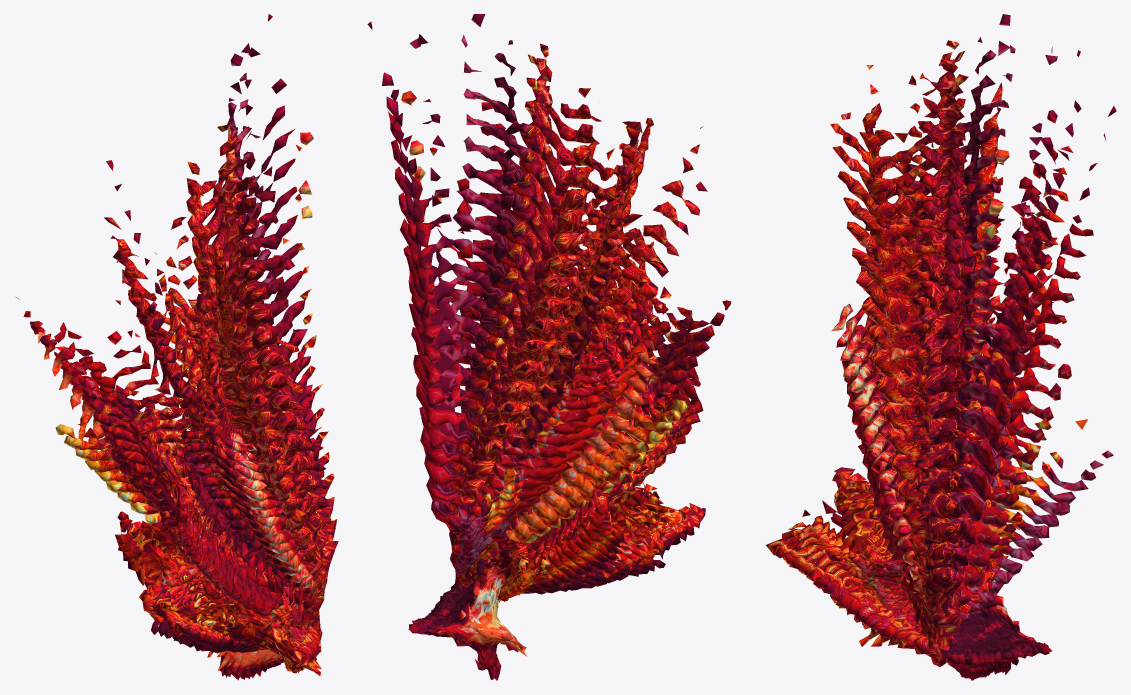
The model's file is Blood4.FBX.
The picture shows the model from 3 angles, left to right: view 1: azimuth 30°, elevation 25°; view 2: azimuth 150°, elevation 25°; view 3: azimuth 270°, elevation 25°; orthographic projection. The views are drawn at different scales.
Visible parts, largest first — view 1: LODGroup_1_MainMesh_19_SubMesh_1, LODGroup_1_MainMesh_18_SubMesh_1, LODGroup_1_MainMesh_20_SubMesh_1, LODGroup_1_MainMesh_17_SubMesh_1, LODGroup_1_MainMesh_16_SubMesh_1, LODGroup_1_MainMesh_21_SubMesh_1, LODGroup_1_MainMesh_15_SubMesh_1, LODGroup_1_MainMesh_14_SubMesh_1, LODGroup_1_MainMesh_13_SubMesh_1, LODGroup_1_MainMesh_12_SubMesh_1, LODGroup_1_MainMesh_11_SubMesh_1, LODGroup_1_MainMesh_10_SubMesh_1 (+10 smaller); view 2: LODGroup_1_MainMesh_18_SubMesh_1, LODGroup_1_MainMesh_17_SubMesh_1, LODGroup_1_MainMesh_19_SubMesh_1, LODGroup_1_MainMesh_16_SubMesh_1, LODGroup_1_MainMesh_15_SubMesh_1, LODGroup_1_MainMesh_14_SubMesh_1, LODGroup_1_MainMesh_20_SubMesh_1, LODGroup_1_MainMesh_13_SubMesh_1, LODGroup_1_MainMesh_12_SubMesh_1, LODGroup_1_MainMesh_11_SubMesh_1, LODGroup_1_MainMesh_10_SubMesh_1, LODGroup_1_MainMesh_9_SubMesh_1 (+10 smaller); view 3: LODGroup_1_MainMesh_16_SubMesh_1, LODGroup_1_MainMesh_15_SubMesh_1, LODGroup_1_MainMesh_18_SubMesh_1, LODGroup_1_MainMesh_14_SubMesh_1, LODGroup_1_MainMesh_13_SubMesh_1, LODGroup_1_MainMesh_17_SubMesh_1, LODGroup_1_MainMesh_12_SubMesh_1, LODGroup_1_MainMesh_11_SubMesh_1, LODGroup_1_MainMesh_10_SubMesh_1, LODGroup_1_MainMesh_19_SubMesh_1, LODGroup_1_MainMesh_9_SubMesh_1, LODGroup_1_MainMesh_8_SubMesh_1 (+10 smaller).
Part boxes in pixels (x1=…): LODGroup_1_MainMesh_19_SubMesh_1: x1=34, y1=99, x2=303, y2=676; LODGroup_1_MainMesh_18_SubMesh_1: x1=45, y1=78, x2=313, y2=677; LODGroup_1_MainMesh_20_SubMesh_1: x1=23, y1=47, x2=302, y2=671; LODGroup_1_MainMesh_17_SubMesh_1: x1=61, y1=105, x2=299, y2=676; LODGroup_1_MainMesh_16_SubMesh_1: x1=70, y1=129, x2=312, y2=673; LODGroup_1_MainMesh_21_SubMesh_1: x1=15, y1=14, x2=304, y2=661; LODGroup_1_MainMesh_15_SubMesh_1: x1=81, y1=158, x2=312, y2=678; LODGroup_1_MainMesh_14_SubMesh_1: x1=96, y1=186, x2=305, y2=680; LODGroup_1_MainMesh_13_SubMesh_1: x1=130, y1=215, x2=309, y2=679; LODGroup_1_MainMesh_12_SubMesh_1: x1=144, y1=243, x2=312, y2=678; LODGroup_1_MainMesh_11_SubMesh_1: x1=165, y1=271, x2=313, y2=677; LODGroup_1_MainMesh_10_SubMesh_1: x1=178, y1=300, x2=316, y2=676; LODGroup_1_MainMesh_18_SubMesh_1: x1=382, y1=72, x2=709, y2=677; LODGroup_1_MainMesh_17_SubMesh_1: x1=386, y1=96, x2=697, y2=671; LODGroup_1_MainMesh_19_SubMesh_1: x1=395, y1=61, x2=714, y2=680; LODGroup_1_MainMesh_16_SubMesh_1: x1=388, y1=111, x2=689, y2=671; LODGroup_1_MainMesh_15_SubMesh_1: x1=391, y1=139, x2=679, y2=662; LODGroup_1_MainMesh_14_SubMesh_1: x1=395, y1=166, x2=666, y2=664; LODGroup_1_MainMesh_20_SubMesh_1: x1=390, y1=35, x2=724, y2=679; LODGroup_1_MainMesh_13_SubMesh_1: x1=398, y1=192, x2=654, y2=656; LODGroup_1_MainMesh_12_SubMesh_1: x1=400, y1=218, x2=632, y2=651; LODGroup_1_MainMesh_11_SubMesh_1: x1=403, y1=245, x2=622, y2=652; LODGroup_1_MainMesh_10_SubMesh_1: x1=408, y1=276, x2=600, y2=650; LODGroup_1_MainMesh_9_SubMesh_1: x1=409, y1=303, x2=591, y2=644; LODGroup_1_MainMesh_16_SubMesh_1: x1=798, y1=155, x2=1097, y2=672; LODGroup_1_MainMesh_15_SubMesh_1: x1=806, y1=183, x2=1089, y2=675; LODGroup_1_MainMesh_18_SubMesh_1: x1=783, y1=99, x2=1116, y2=673; LODGroup_1_MainMesh_14_SubMesh_1: x1=813, y1=210, x2=1081, y2=665; LODGroup_1_MainMesh_13_SubMesh_1: x1=822, y1=239, x2=1072, y2=677; LODGroup_1_MainMesh_17_SubMesh_1: x1=789, y1=126, x2=1105, y2=674; LODGroup_1_MainMesh_12_SubMesh_1: x1=830, y1=267, x2=1060, y2=676; LODGroup_1_MainMesh_11_SubMesh_1: x1=835, y1=295, x2=1054, y2=676; LODGroup_1_MainMesh_10_SubMesh_1: x1=846, y1=324, x2=1044, y2=680; LODGroup_1_MainMesh_19_SubMesh_1: x1=775, y1=73, x2=1093, y2=672; LODGroup_1_MainMesh_9_SubMesh_1: x1=854, y1=353, x2=1036, y2=680; LODGroup_1_MainMesh_8_SubMesh_1: x1=861, y1=381, x2=1026, y2=680.
Size of the model in its own units: 11.14 by 24.38 by 11.82.
1 material, 1 textured.
